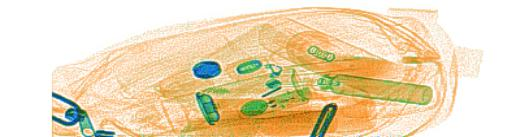plasticBottleWithaNozzle: (257, 13, 427, 115)
pressure: (159, 67, 311, 131)
